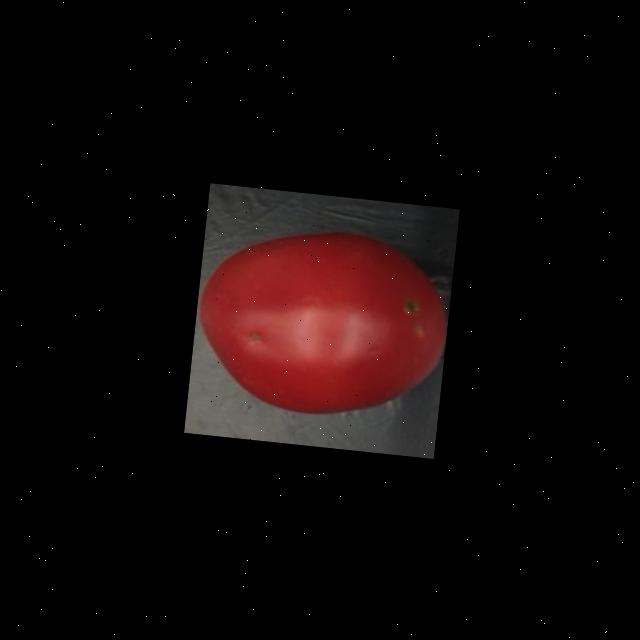tomato: (185, 211, 452, 434)
